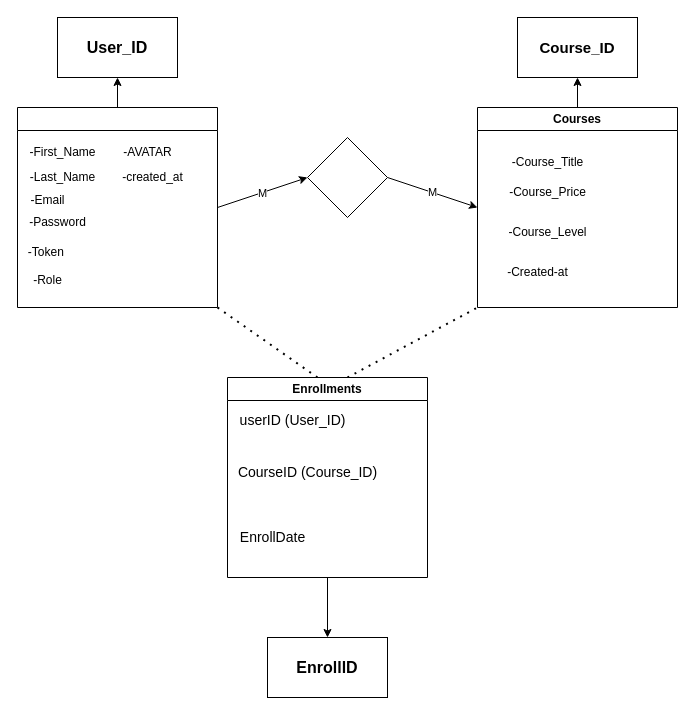
Some shapes in this 695 by 715 pixel diagram are drawn without their labels. The shapes that lost their labels are listed below. From the top down, each one's box as (x1, y1, x2, y2) in pixels, then its label:
(306, 136, 388, 218): Get
(16, 106, 218, 308): Users
